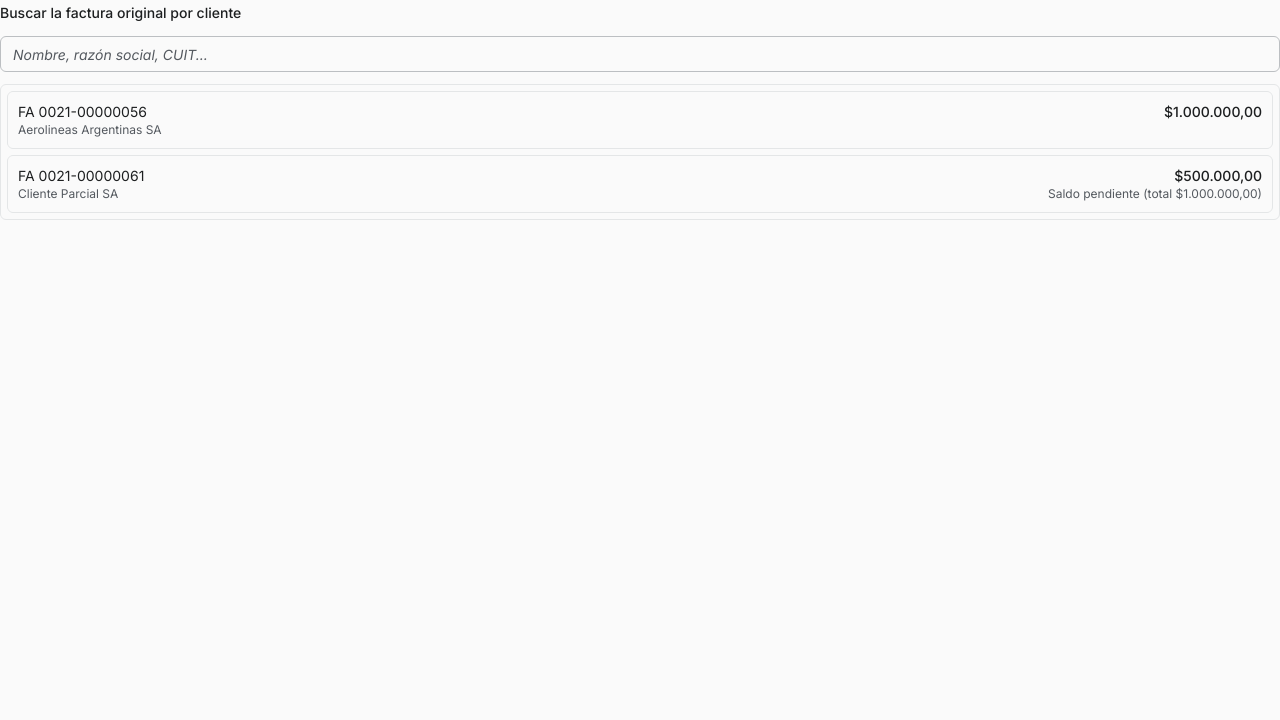
Test case: NotaDebitoCentroDialog — no tapa el importe con el saldo acreditable › acepta un importe mayor al saldo acreditable de la factura
Type "a" into the field with test id "input-buscar-comprobante-nc-nd" at (640,54), box x1=0 y1=36 x2=1279 y2=72
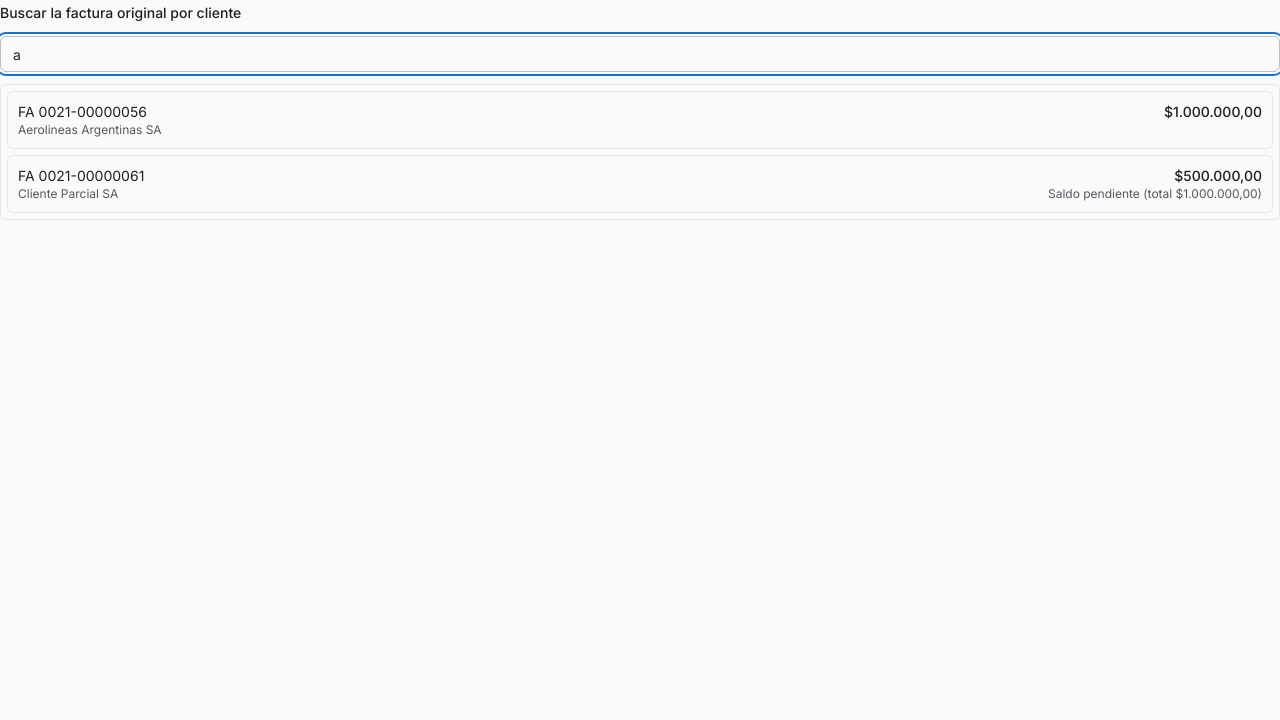
Click the button with test id "row-invoice-nc-nd-4" at (55,176), box x1=7 y1=155 x2=1273 y2=213
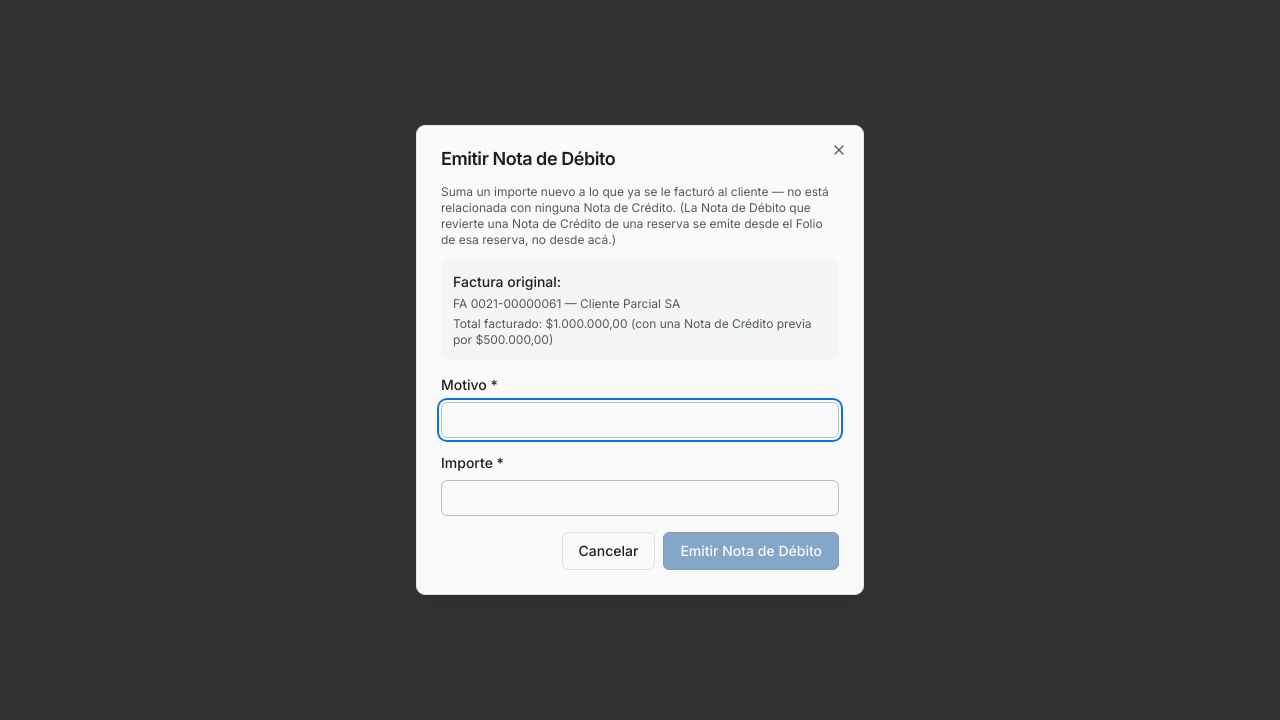
Type "999999999" into the number field with test id "input-nd-monto" at (640,498), box x1=441 y1=480 x2=839 y2=516
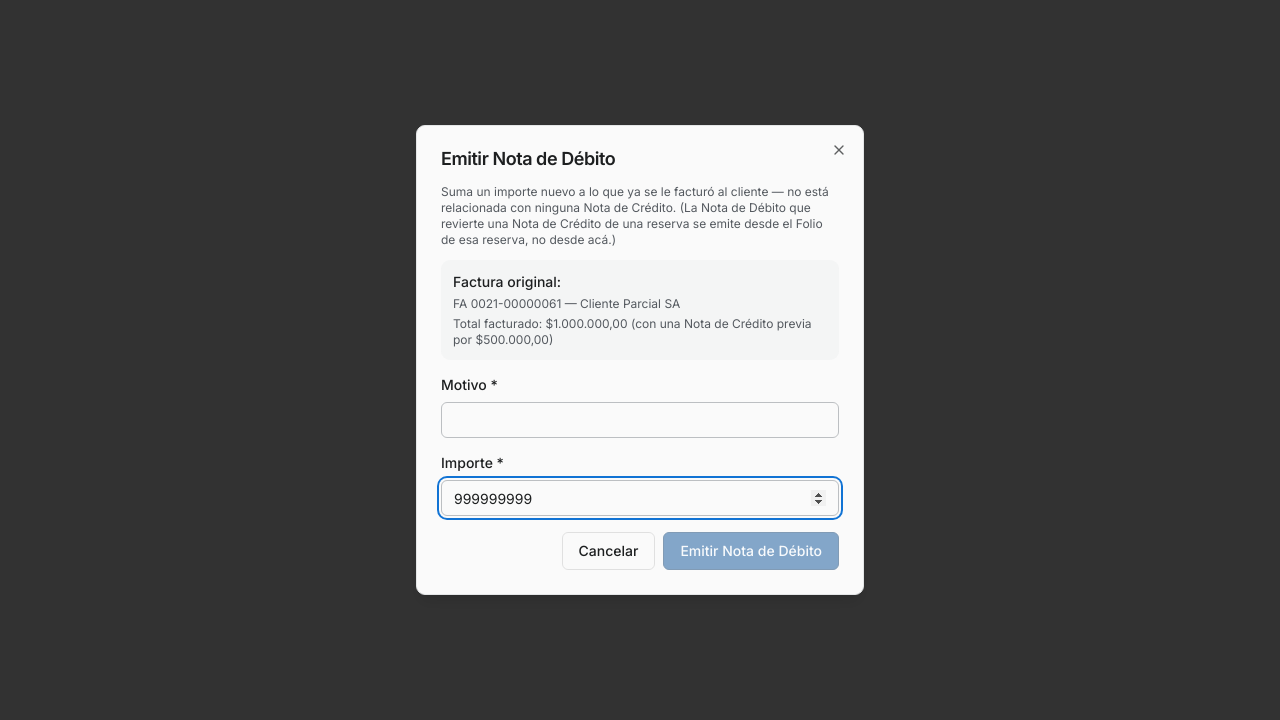
Type "Cargo adicional" into the field with test id "input-nd-motivo" at (640,420), box x1=441 y1=402 x2=839 y2=438
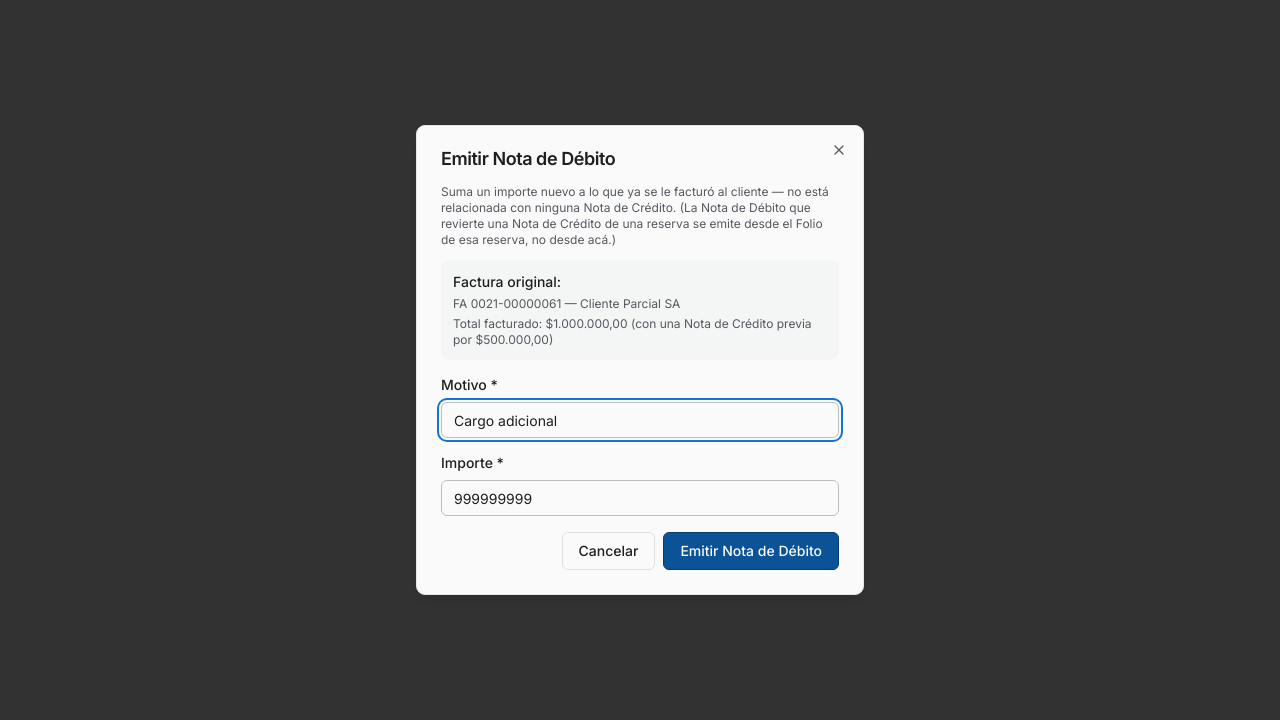
expect the button with test id "button-submit-nd" is enabled: met, box x1=663 y1=532 x2=839 y2=570
